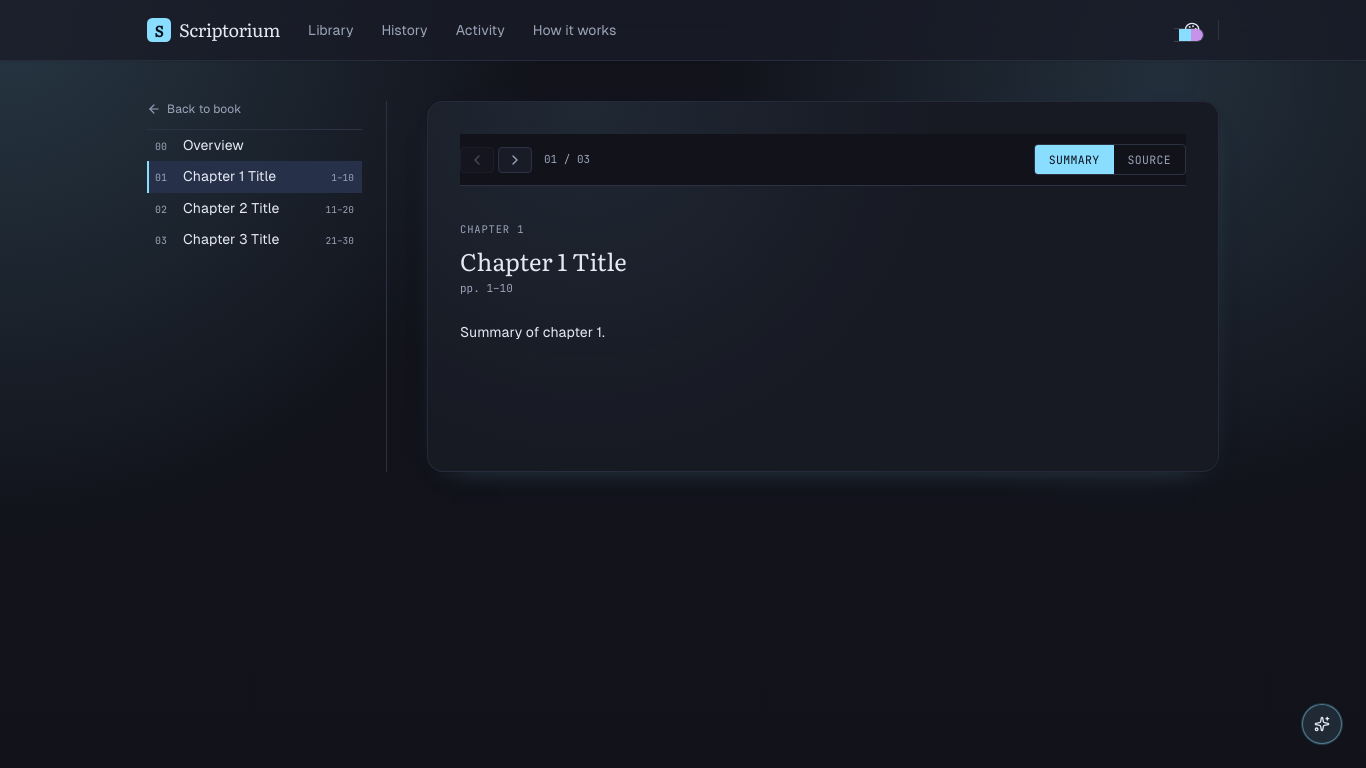
Test: the Summary control returns to the summary without leaving a stale ?view=source entry
Expected: the text "Summary of chapter 1." is shown, [460,324,605,340]
Step 1. Click the button "Source" → (1149, 160), box [1114,145,1185,174]
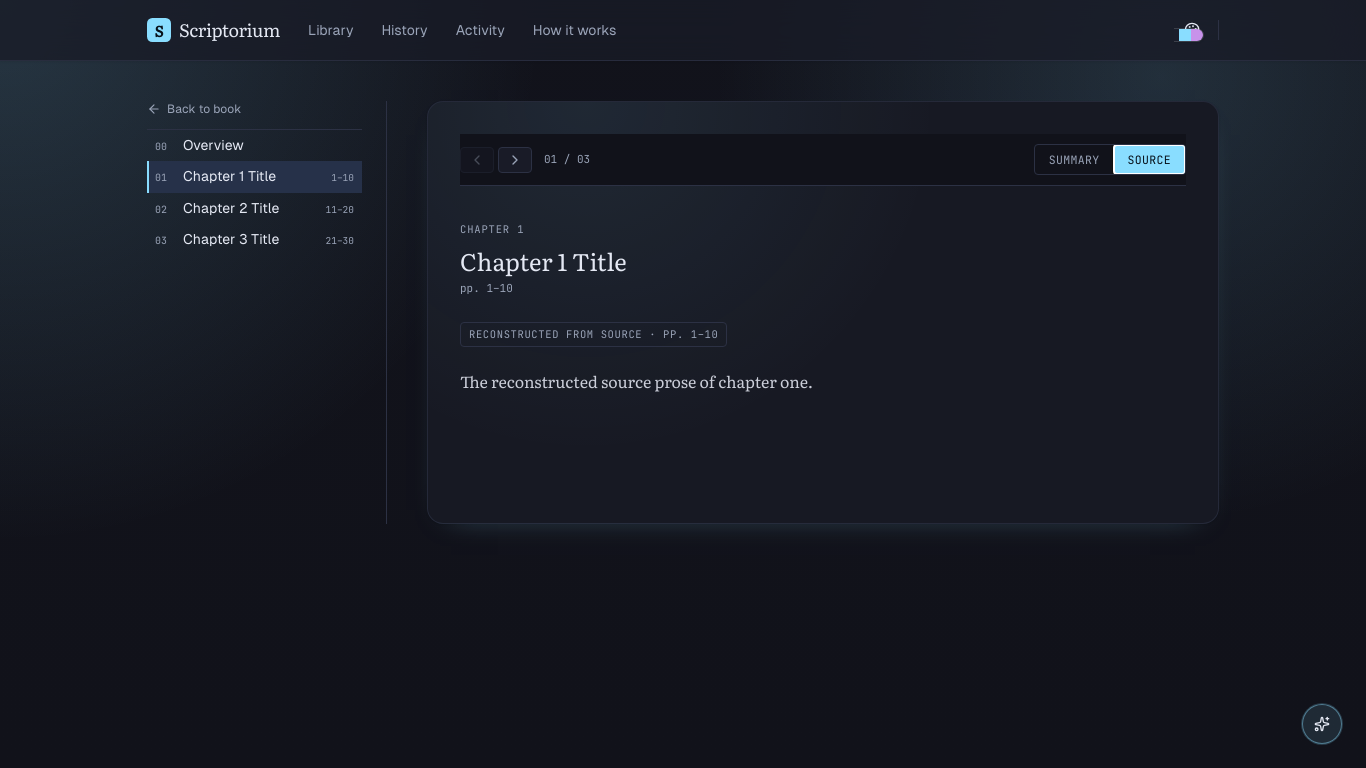
Now the text "Reconstructed from source · pp. 1–10" is shown, box [460,322,728,347]
Step 2. Click the button "Summary" → (1074, 160), box [1035,145,1114,174]
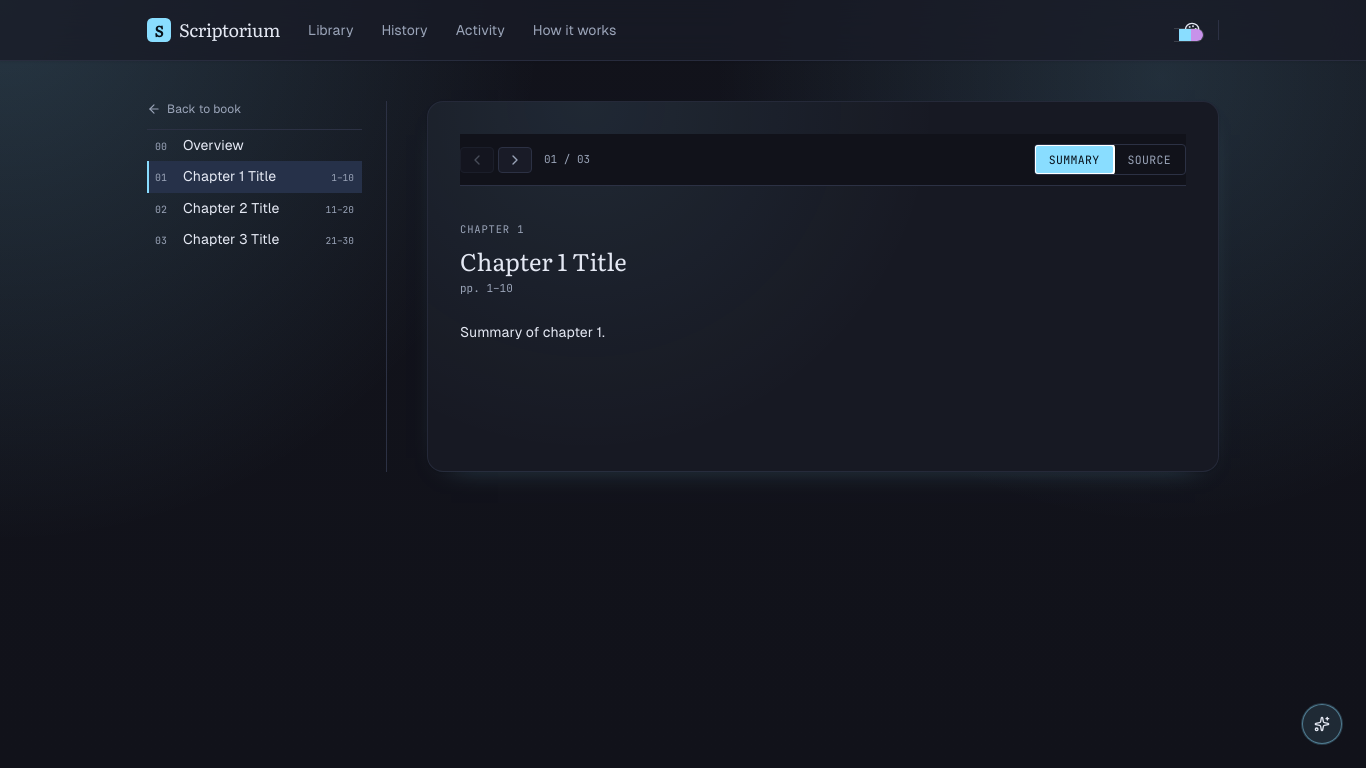
Now the text "Summary of chapter 1." is shown, box [460,324,605,340]
